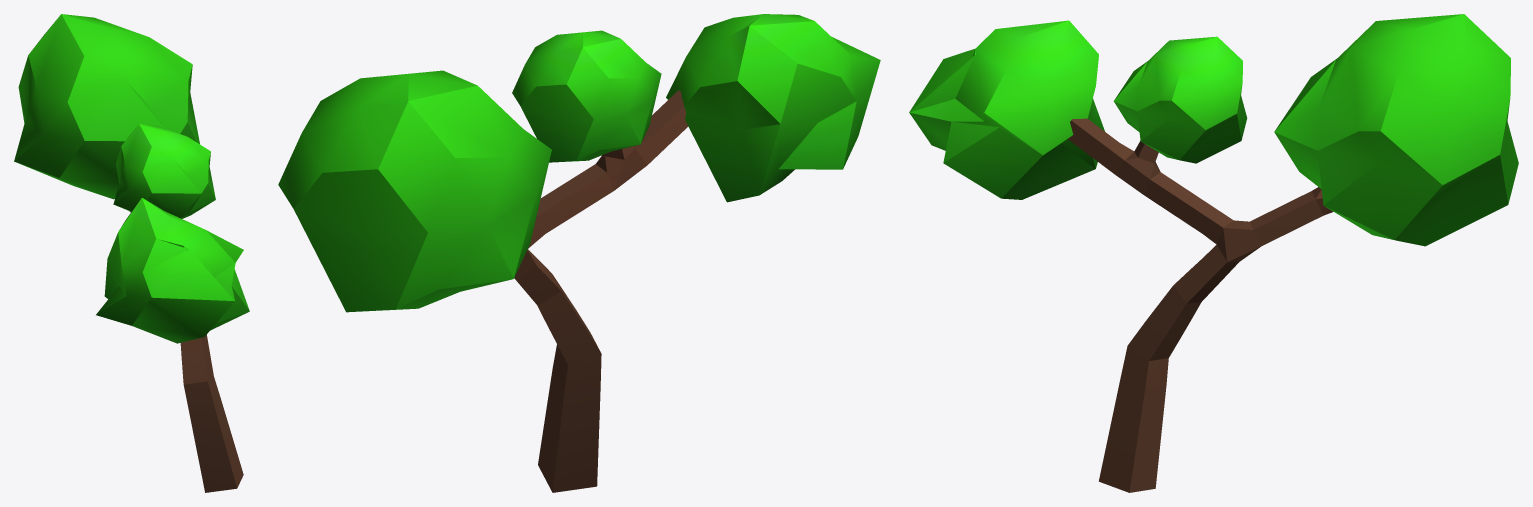
Rendered from finaltree.glb.
3 renders of one model, left to right at view 1: azimuth 30°, elevation 25°; view 2: azimuth 150°, elevation 25°; view 3: azimuth 270°, elevation 25°, orthographic. The views are drawn at different scales.
Visible parts, largest first — view 1: Icosphere.001; view 2: Icosphere.001; view 3: Icosphere.001.
Boxes of the visible parts, bbox=[...] form: Icosphere.001: bbox=[14, 14, 249, 492]; Icosphere.001: bbox=[278, 14, 880, 492]; Icosphere.001: bbox=[909, 14, 1518, 492].
Size of the model in its own units: 4.12 by 6.22 by 7.46.
Materials: 4 (4 with a texture image).
